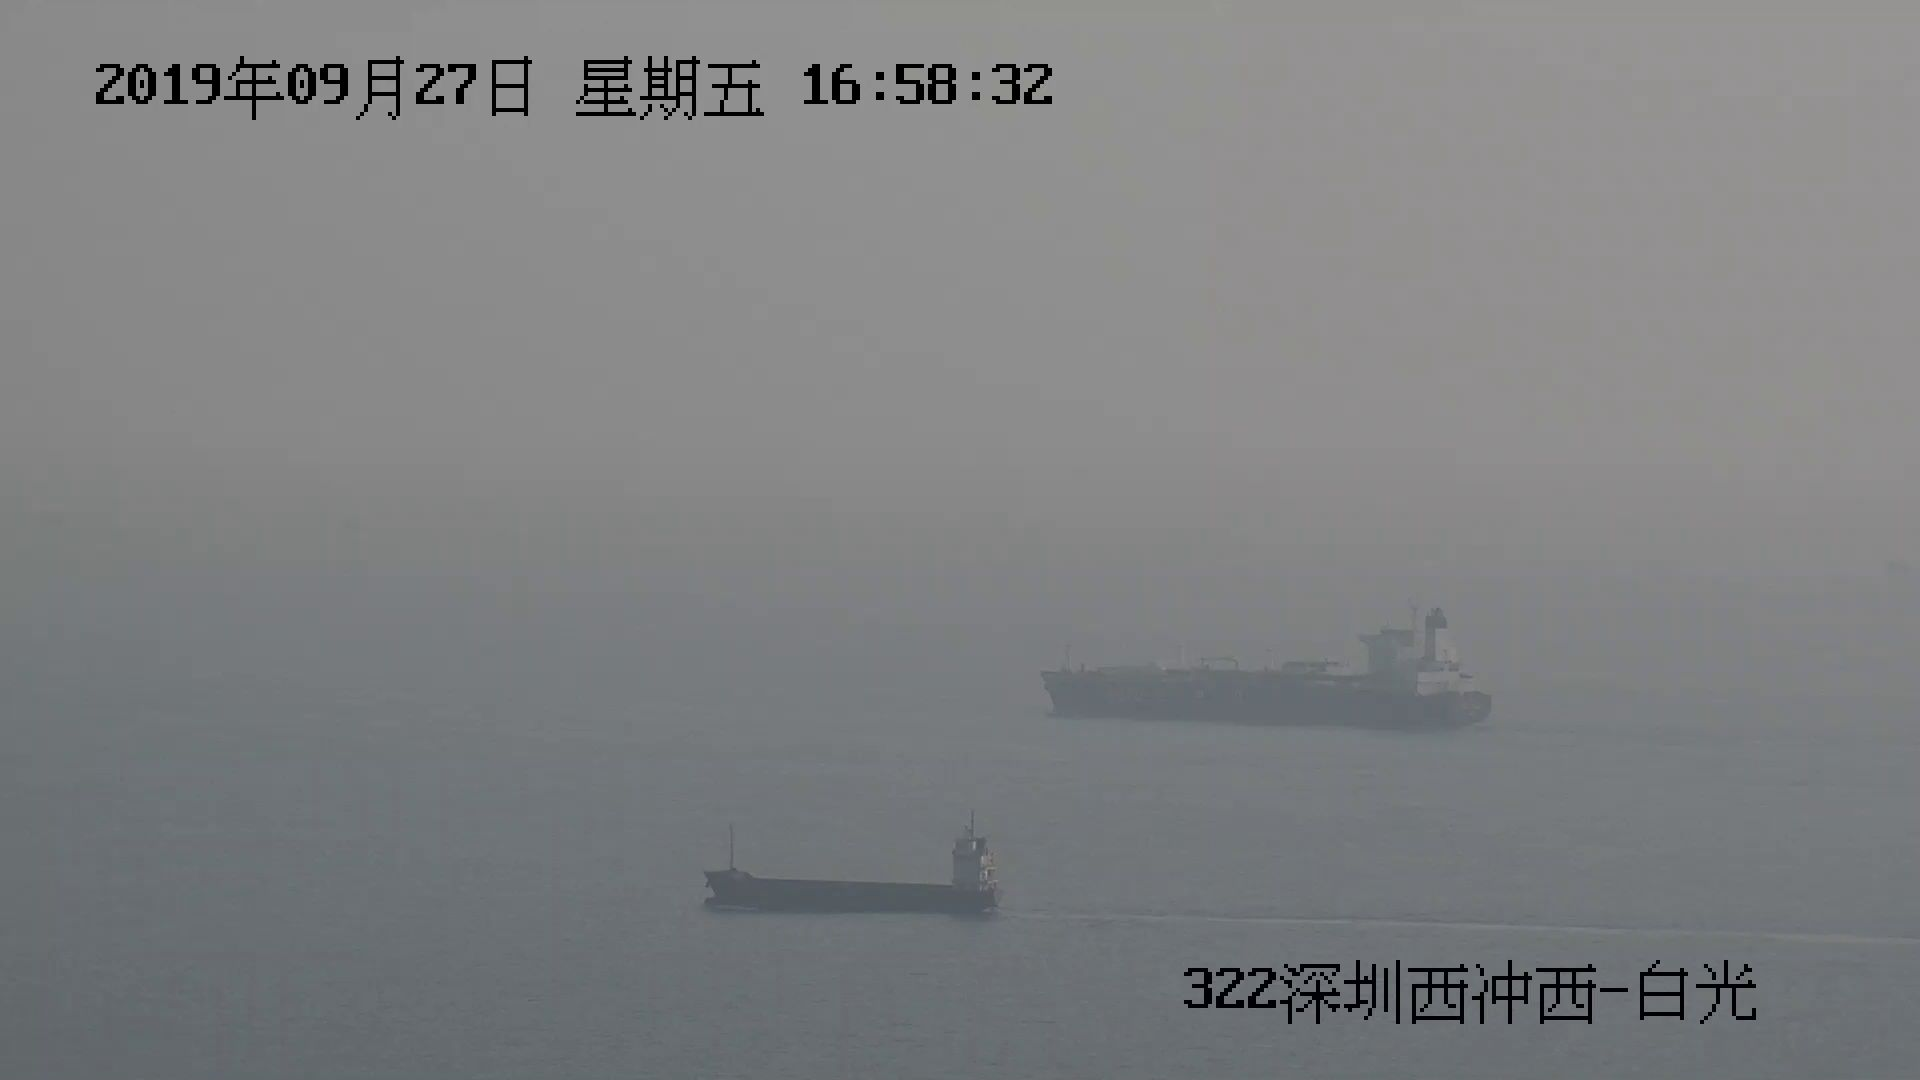ship: (1034, 604, 1501, 733), (703, 828, 1000, 915)
